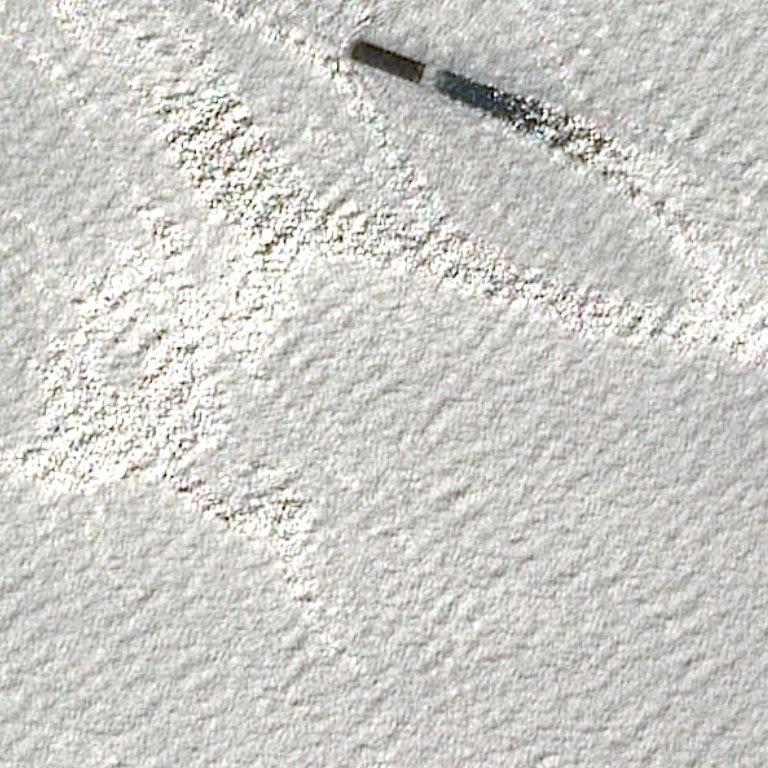ship: (419, 63, 426, 71), (354, 46, 360, 52), (414, 80, 421, 84), (390, 38, 390, 86)
